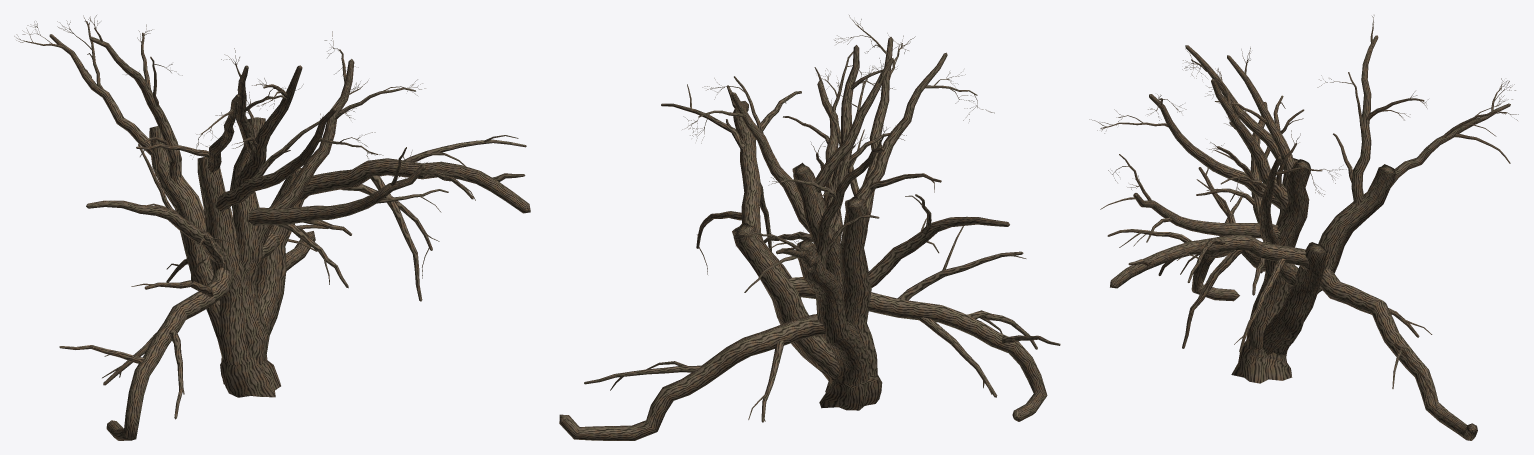
The model's file is dead_standing-b.lod0.glb.
3 renders of one model, left to right at view 1: azimuth 30°, elevation 25°; view 2: azimuth 150°, elevation 25°; view 3: azimuth 270°, elevation 25°, orthographic. The views are drawn at different scales.
Parts seen in each view (by area): view 1: bark; view 2: bark; view 3: bark.
Boxes of the visible parts, x1,y1,x2,y2 form: bark: (14, 15, 530, 440); bark: (559, 15, 1060, 440); bark: (1089, 15, 1518, 440).
Size of the model in its own units: 11.09 by 8.5 by 10.5.
1 material, 1 textured.
